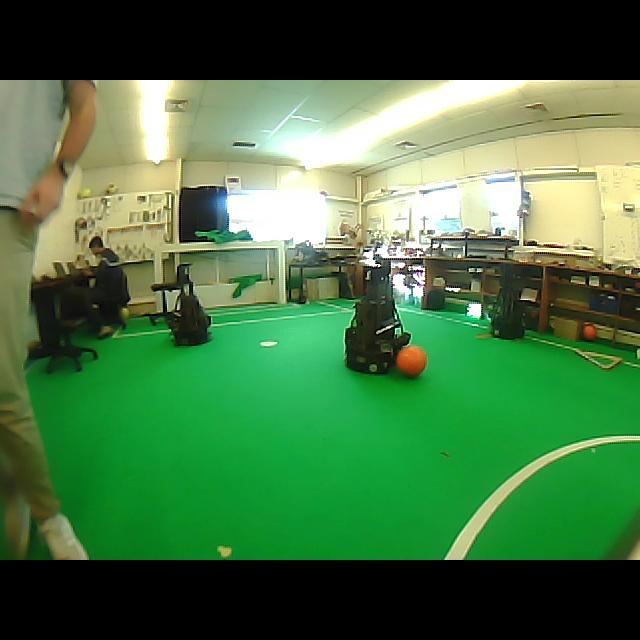ball: (396, 345, 427, 377), (582, 323, 596, 341), (120, 307, 129, 328), (78, 188, 92, 198), (105, 184, 119, 194)
goal: (278, 241, 286, 303)
robot: (345, 265, 410, 373), (168, 264, 210, 345), (491, 265, 525, 338)
